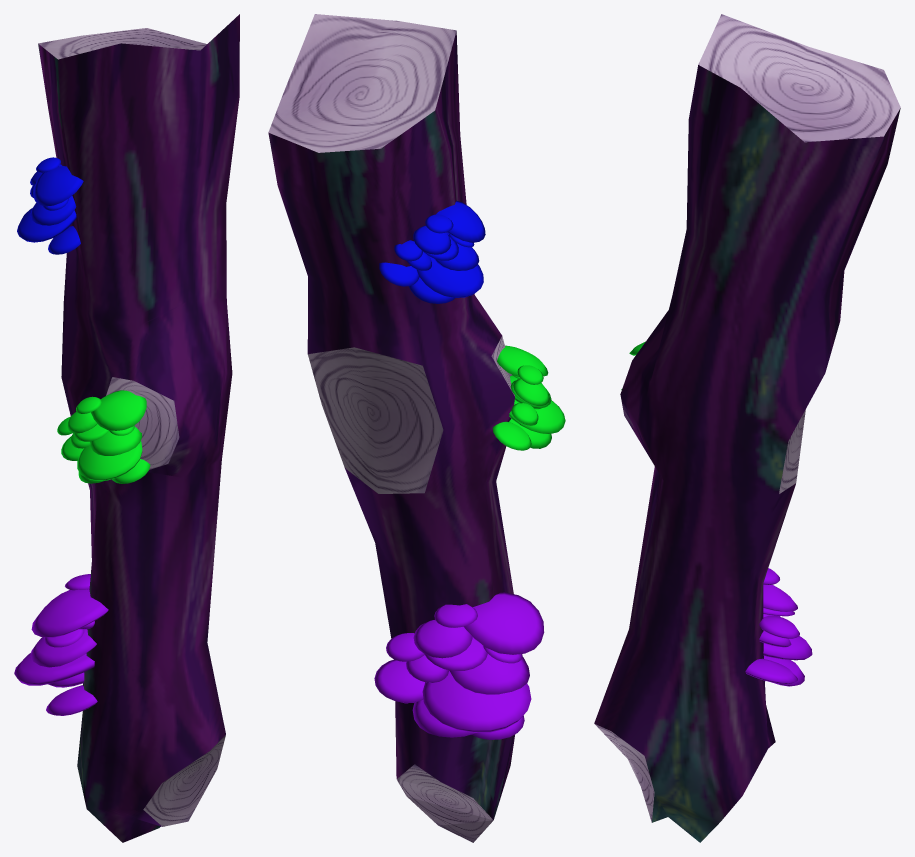
File: ShroomStump_3.fbx
3 views of the same model, side by side, from view 1: azimuth 30°, elevation 25°; view 2: azimuth 150°, elevation 25°; view 3: azimuth 270°, elevation 25° (orthographic). The views are drawn at different scales.
Visible parts, largest first — view 1: Tree_1_UNWRAPPED.003, Mushrooms_Bunch_1.002, Mushrooms_Bunch_2.003, Mushrooms_Bunch_2.002; view 2: Tree_1_UNWRAPPED.003, Mushrooms_Bunch_1.002, Mushrooms_Bunch_2.002, Mushrooms_Bunch_2.003; view 3: Tree_1_UNWRAPPED.003, Mushrooms_Bunch_1.002.
Part boxes in pixels (x1,y1,x2,y2): Tree_1_UNWRAPPED.003: (38,14,239,842); Mushrooms_Bunch_1.002: (14,574,108,715); Mushrooms_Bunch_2.003: (57,390,150,483); Mushrooms_Bunch_2.002: (17,157,83,254); Tree_1_UNWRAPPED.003: (268,14,515,842); Mushrooms_Bunch_1.002: (374,592,544,739); Mushrooms_Bunch_2.002: (379,201,485,303); Mushrooms_Bunch_2.003: (492,345,565,450); Tree_1_UNWRAPPED.003: (594,14,900,842); Mushrooms_Bunch_1.002: (745,568,812,686).
Size of the model in its own units: 87.07 by 313 by 106.
